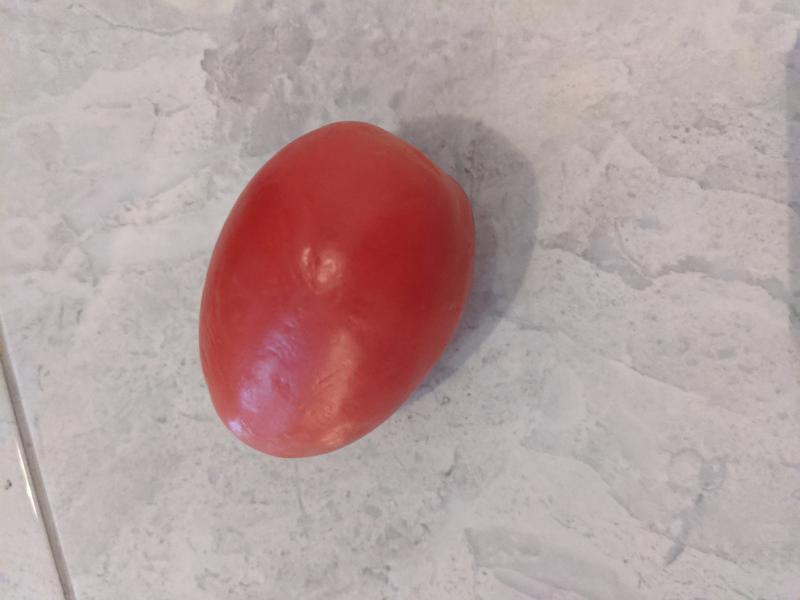tomato: (198, 121, 478, 458)
